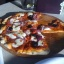pizza: (2, 12, 64, 54)
